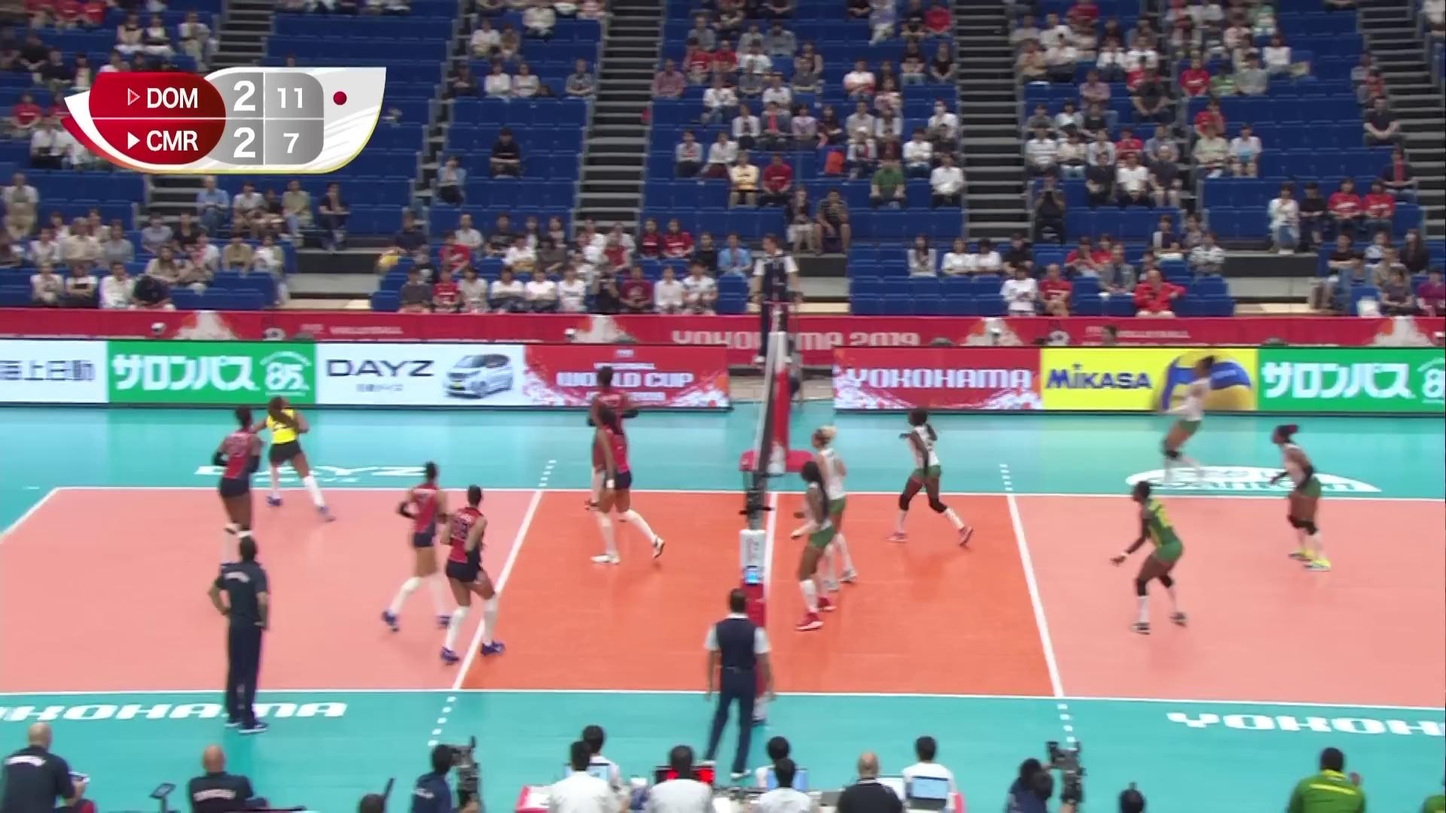player: (380, 460, 454, 637), (1110, 481, 1193, 633), (590, 407, 667, 569), (440, 486, 506, 665), (892, 407, 971, 546), (249, 397, 332, 520), (1269, 426, 1340, 569), (804, 425, 856, 592), (211, 407, 266, 564), (1157, 356, 1221, 487), (586, 365, 637, 524), (795, 460, 838, 631)
refree: (701, 589, 776, 771), (750, 240, 802, 343)
